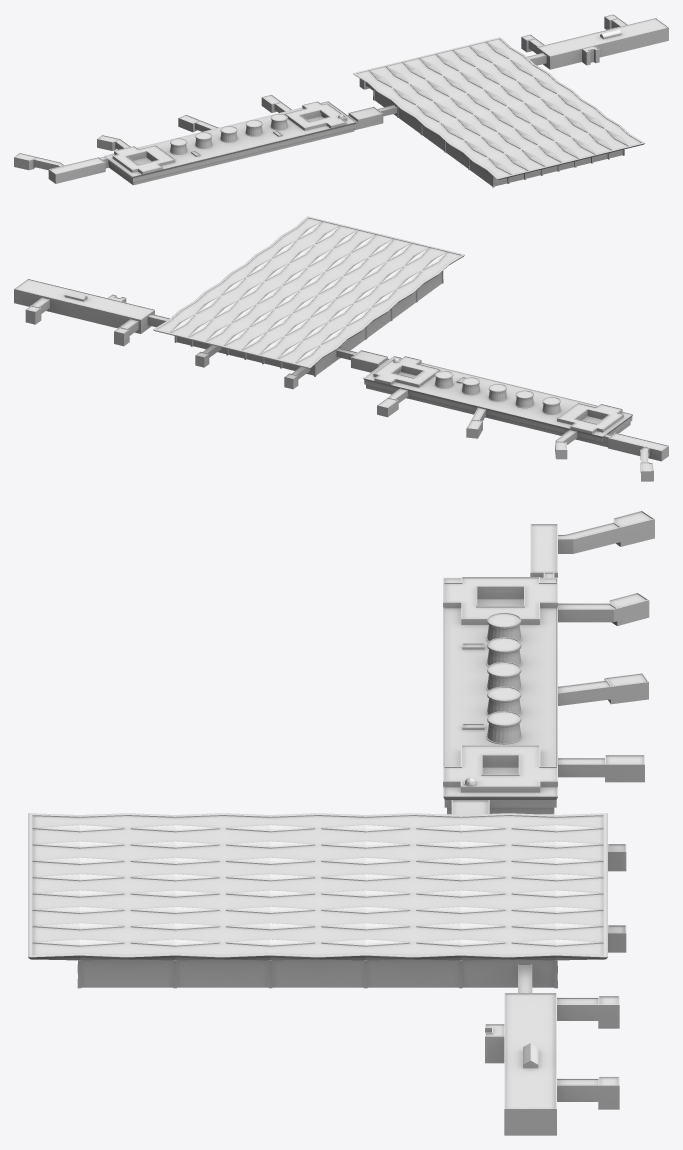
File: pulkovo.dae
3 views of the same model, one above another, from view 1: azimuth 30°, elevation 25°; view 2: azimuth 150°, elevation 25°; view 3: azimuth 270°, elevation 25° (orthographic). The views are drawn at different scales.
Visible parts, largest first — view 1: airport; view 2: airport; view 3: airport.
Boxes of the visible parts, x1,y1,x2,y2 form: airport: (14, 14, 668, 187); airport: (14, 216, 668, 481); airport: (28, 510, 654, 1135).
Bounding box in the file's own units: 1.02 × 0.4468 × 0.033.
1 material, 1 textured.
